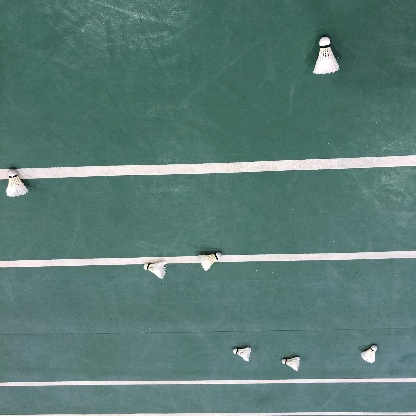ball_single: (313, 37, 339, 74), (6, 169, 28, 197), (199, 252, 222, 271), (144, 261, 167, 279), (361, 345, 377, 363), (233, 347, 252, 362), (282, 357, 300, 371)
